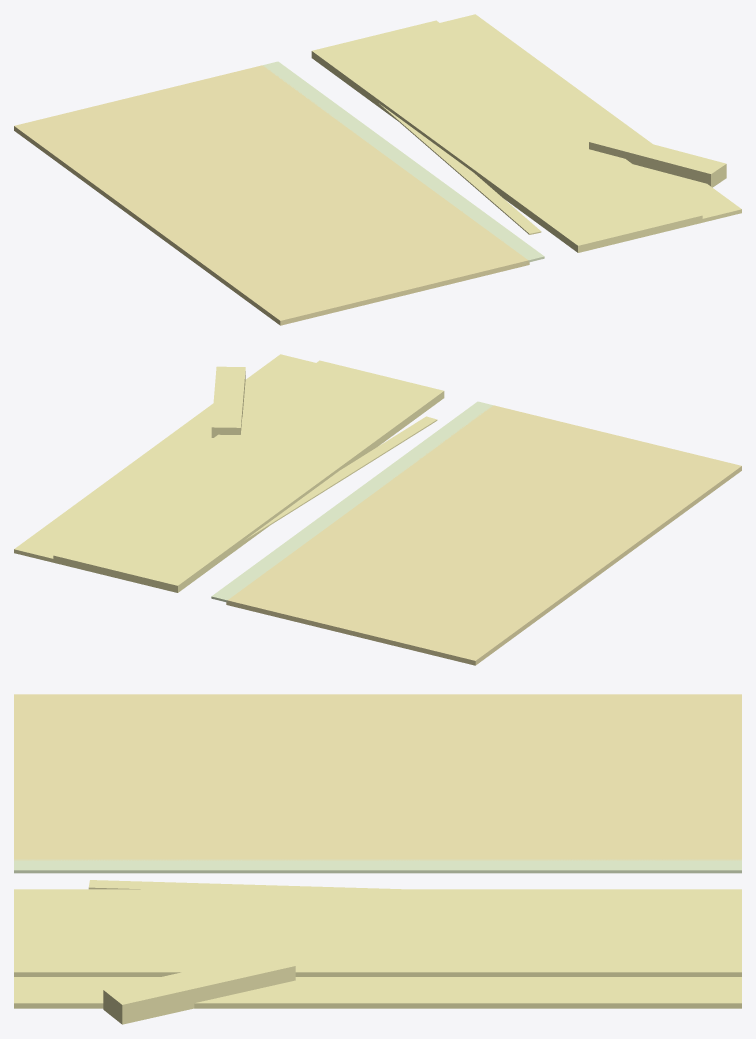
The model's file is road_ramp_bridge_tie_transition.glb.
The picture shows the model from 3 angles, top to bottom: view 1: azimuth 30°, elevation 25°; view 2: azimuth 150°, elevation 25°; view 3: azimuth 270°, elevation 25°; orthographic projection. The views are drawn at different scales.
Visible parts, largest first — view 1: mainline_asphalt, bridge_slab, outer_shoulder, tie_band, retaining_nose, seat_joint; view 2: mainline_asphalt, bridge_slab, outer_shoulder, tie_band, retaining_nose, seat_joint; view 3: mainline_asphalt, bridge_slab, outer_shoulder, tie_band, retaining_nose, seat_joint.
Boxes of the visible parts, x1,y1,x2,y2 form: mainline_asphalt: (14, 65, 529, 325); bridge_slab: (311, 20, 702, 252); outer_shoulder: (440, 14, 741, 225); tie_band: (262, 61, 544, 262); retaining_nose: (589, 131, 726, 187); seat_joint: (378, 103, 541, 234); mainline_asphalt: (226, 405, 741, 665); bridge_slab: (53, 360, 444, 592); outer_shoulder: (14, 354, 315, 565); tie_band: (211, 401, 492, 602); retaining_nose: (211, 366, 245, 437); seat_joint: (244, 416, 437, 541); mainline_asphalt: (14, 694, 741, 860); bridge_slab: (14, 889, 741, 976); outer_shoulder: (14, 977, 741, 1008); tie_band: (14, 859, 741, 873); retaining_nose: (103, 951, 295, 1024); seat_joint: (88, 880, 400, 889).
Size of the model in its own units: 4.21 by 0.12 by 4.
